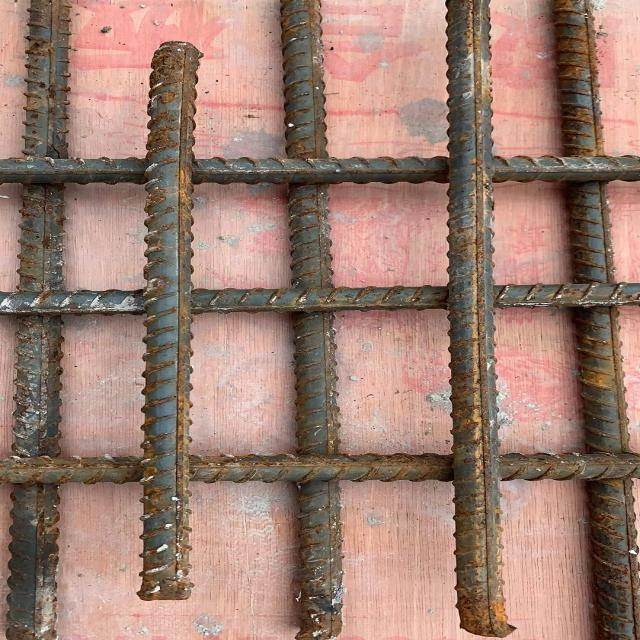ribbed bar: (549, 1, 639, 640), (273, 1, 350, 638), (440, 0, 515, 637), (1, 1, 74, 640), (135, 39, 205, 603), (0, 281, 639, 315), (0, 153, 638, 187), (0, 451, 638, 485)
